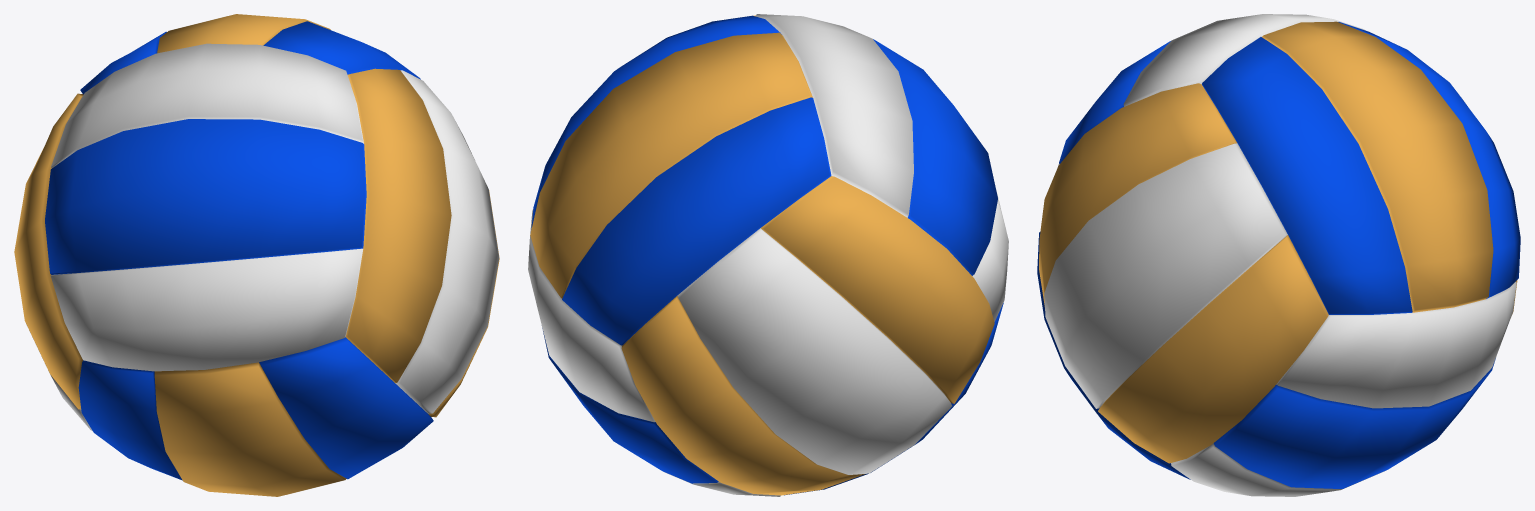
The model's file is volleyball.glb.
The picture shows the model from 3 angles, left to right: view 1: azimuth 30°, elevation 25°; view 2: azimuth 150°, elevation 25°; view 3: azimuth 270°, elevation 25°; orthographic projection.
Visible parts, largest first — view 1: Cube; view 2: Cube; view 3: Cube.
Part boxes in pixels (<box>): Cube: <box>14,14,499,496</box>; Cube: <box>528,14,1008,496</box>; Cube: <box>1037,14,1520,496</box>.
Bounding box in the file's own units: 0.2085 × 0.2093 × 0.2088.
